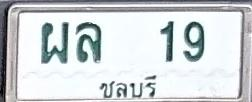1: (159, 20, 174, 62)
9: (183, 20, 204, 62)
A28: (40, 21, 69, 64)
A36: (75, 21, 102, 63)
CBI: (94, 72, 162, 102)
